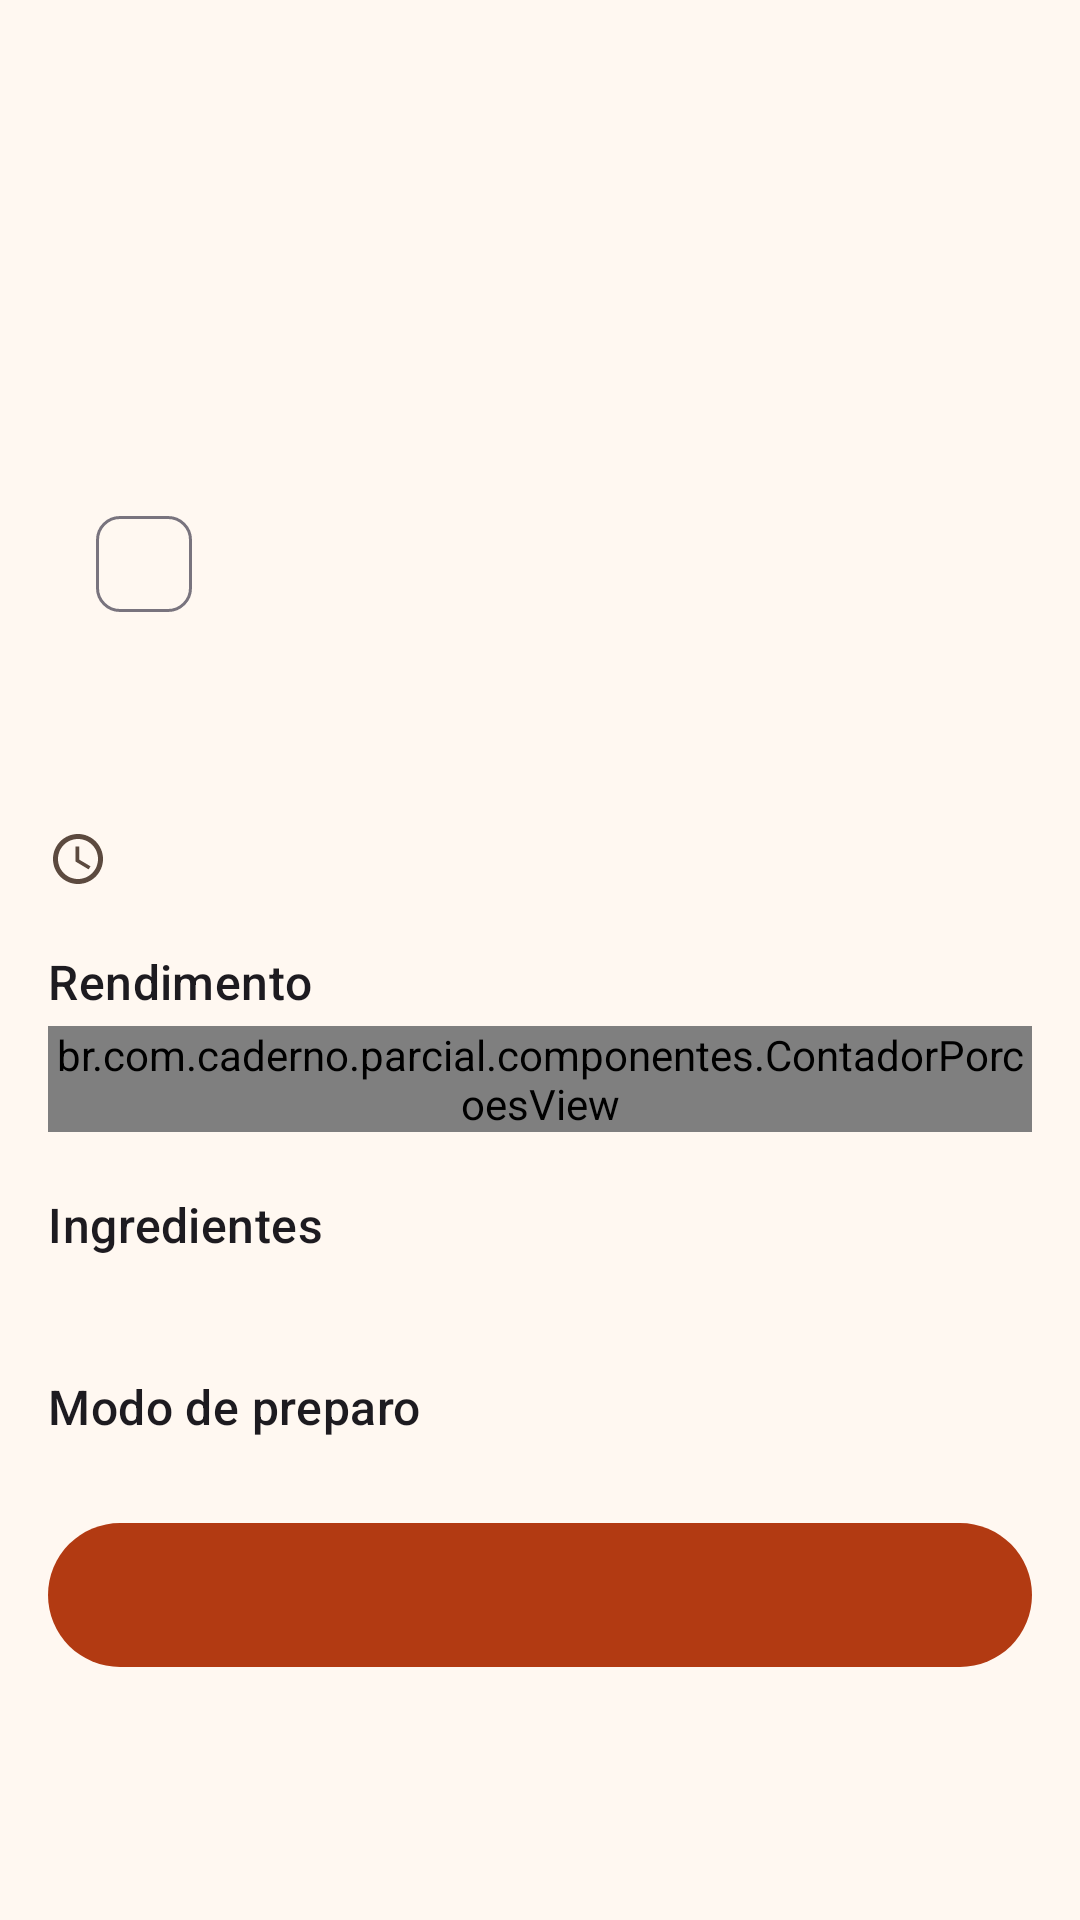

Screen size 1080w x 1920h. Icon name, then its box in pixels as {"left": x1, "top": y1, "right": x2, "bottom": y2}:
Tempo de preparo: {"left": 53, "top": 834, "right": 103, "bottom": 884}
